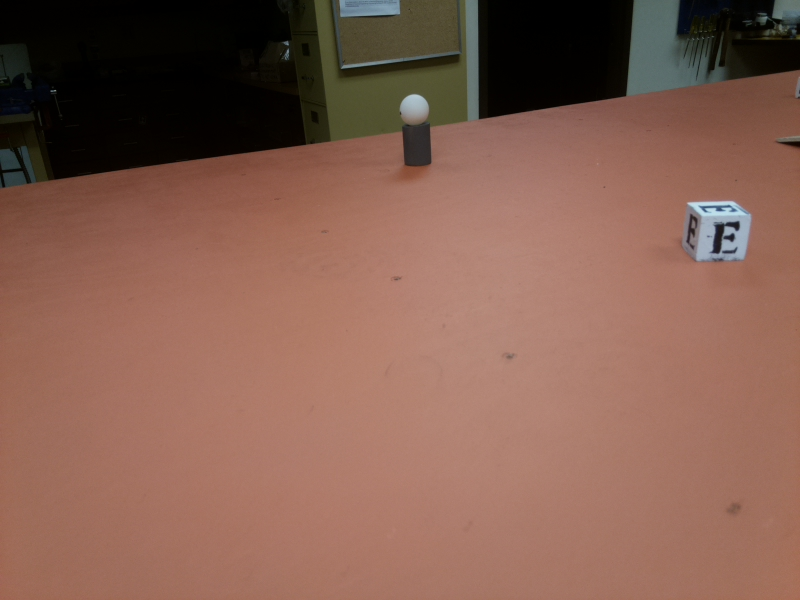blockE: (678, 200, 753, 263)
obstacle: (393, 92, 441, 169)
